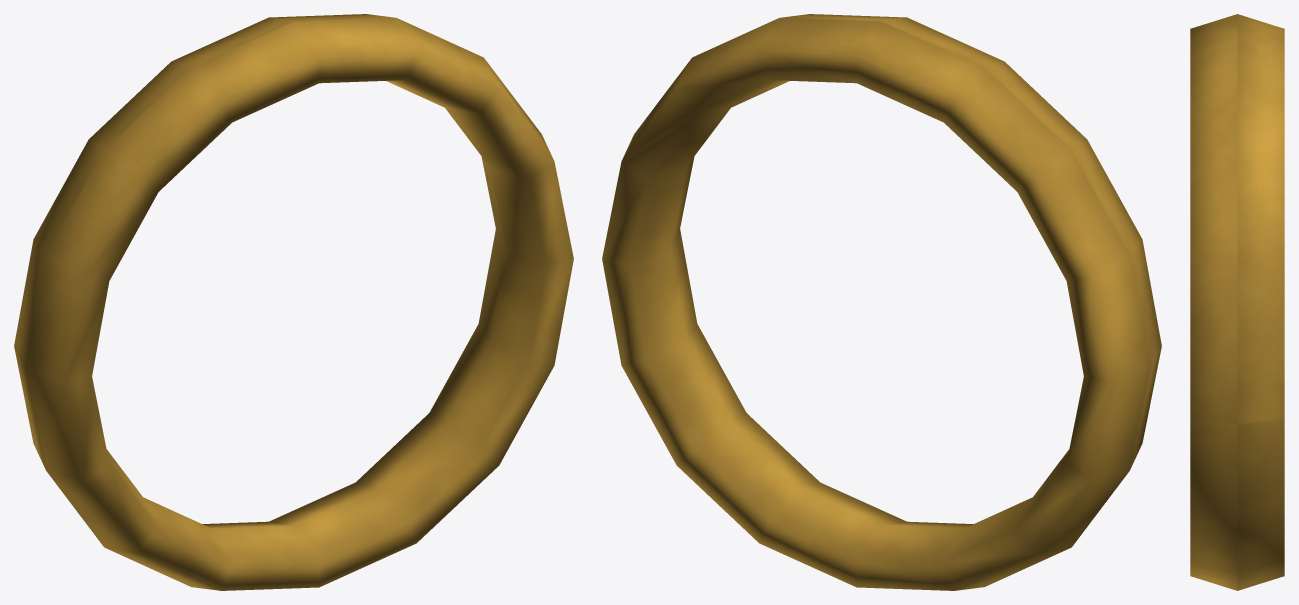
The model's file is it_ring_gold.glb.
The picture shows the model from 3 angles, left to right: view 1: azimuth 30°, elevation 25°; view 2: azimuth 150°, elevation 25°; view 3: azimuth 270°, elevation 25°; orthographic projection. The views are drawn at different scales.
Parts seen in each view (by area): view 1: it_ring_gold_lod0; view 2: it_ring_gold_lod0; view 3: it_ring_gold_lod0.
Part boxes in pixels (x1=…): it_ring_gold_lod0: x1=14, y1=14, x2=573, y2=590; it_ring_gold_lod0: x1=602, y1=14, x2=1161, y2=590; it_ring_gold_lod0: x1=1190, y1=14, x2=1284, y2=590.
Size of what is drawn, in the model's own units: 0.0234 by 0.0234 by 0.00381.
1 material, 1 textured.
